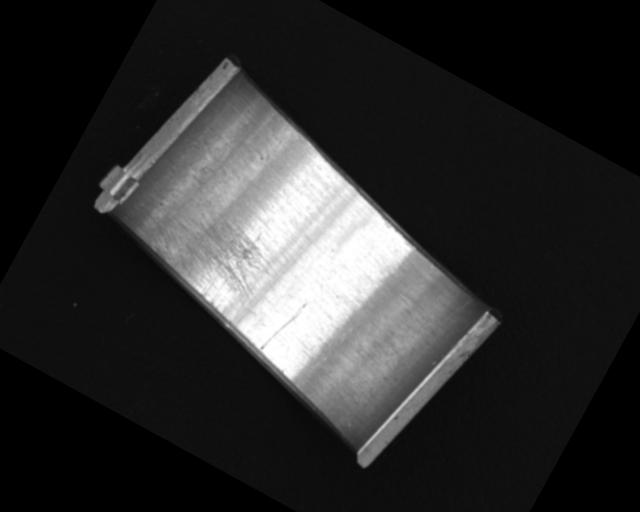nick: (389, 276, 471, 376), (259, 294, 308, 359)
scratch: (138, 191, 281, 327)
